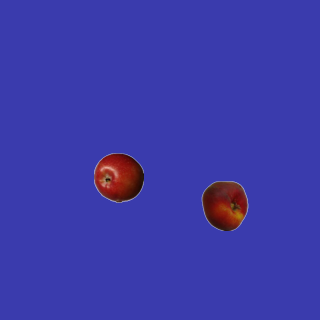Apple Braeburn: (93, 152, 143, 202)
Nectarine Flat: (199, 180, 249, 230)
